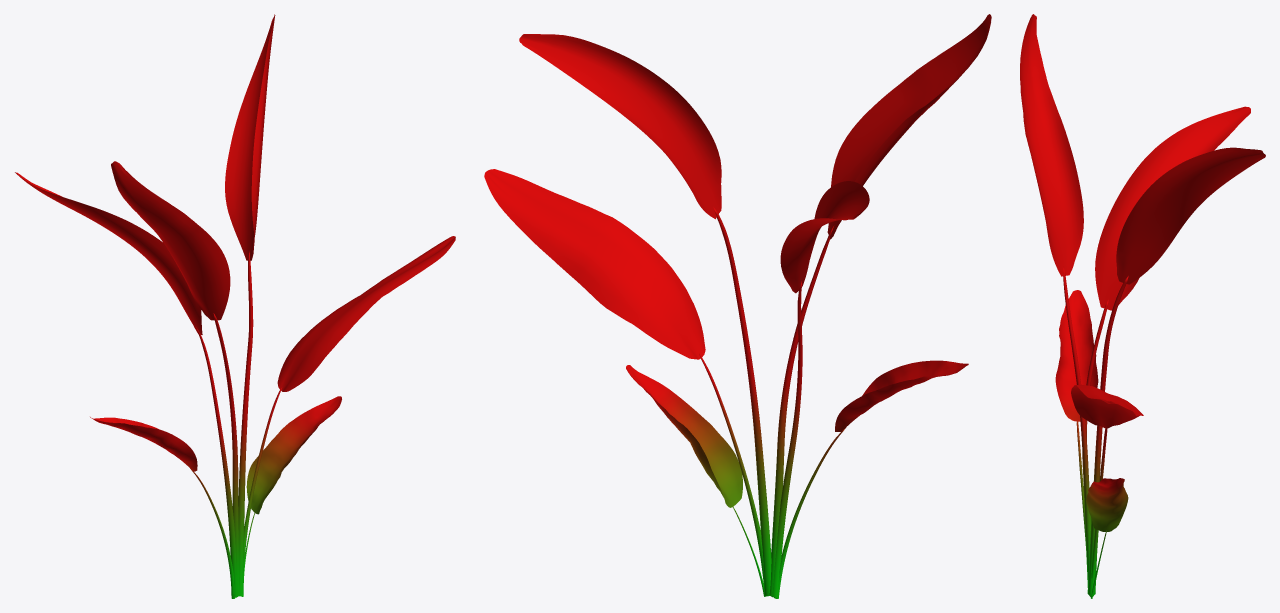
File: Var10_LOD0.fbx
3 renders of one model, left to right at view 1: azimuth 30°, elevation 25°; view 2: azimuth 150°, elevation 25°; view 3: azimuth 270°, elevation 25°, orthographic. The views are drawn at different scales.
Visible parts, largest first — view 1: _me8a_Var10_LOD0; view 2: _me8a_Var10_LOD0; view 3: _me8a_Var10_LOD0.
Boxes of the visible parts, box(x1,y1,x2,y2) form: _me8a_Var10_LOD0: box(15, 14, 455, 598); _me8a_Var10_LOD0: box(484, 14, 991, 598); _me8a_Var10_LOD0: box(1020, 14, 1265, 598).
Size of the model in its own units: 131 by 163 by 71.81.
